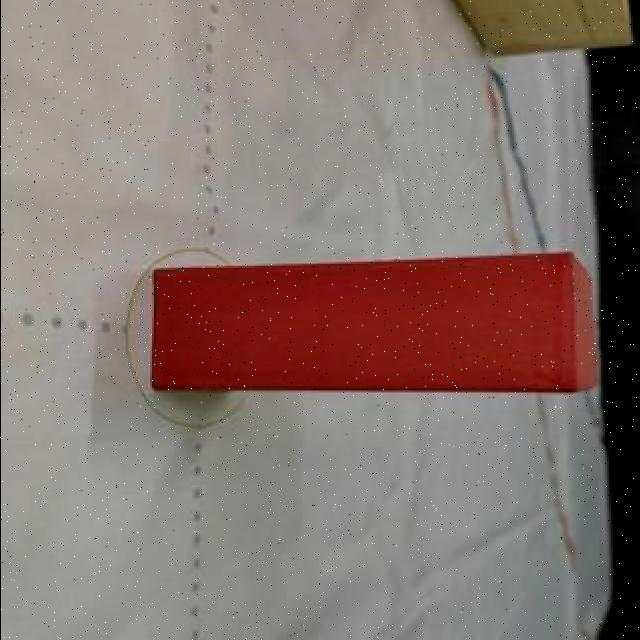redbox: (153, 254, 604, 392)
